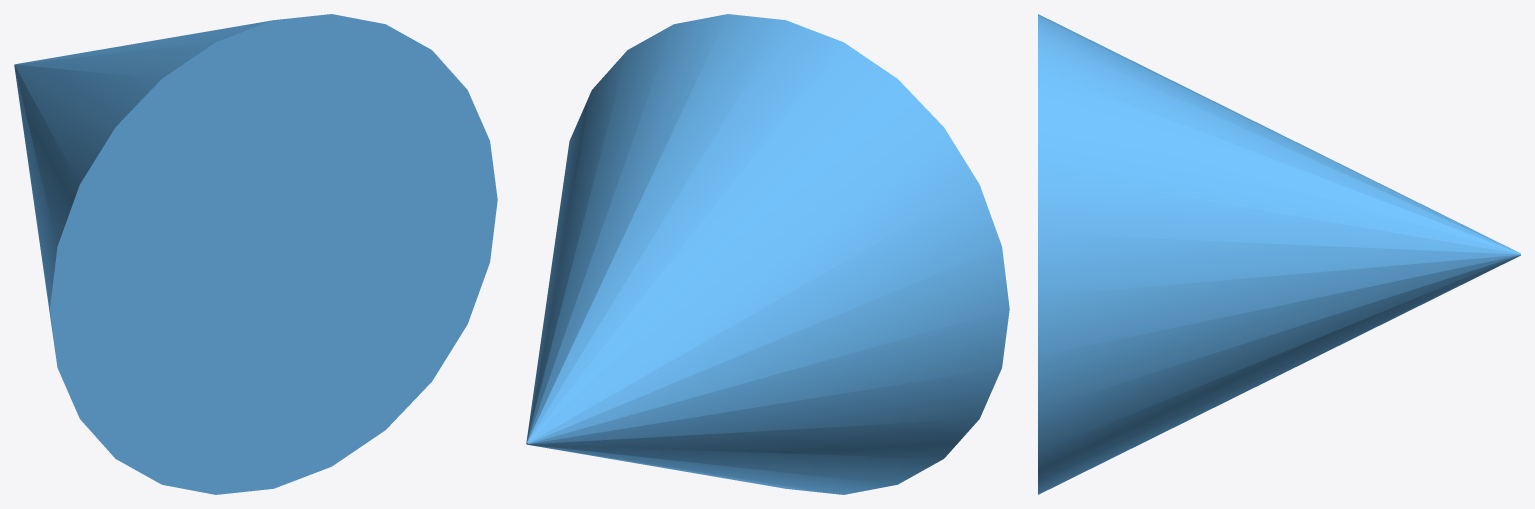
Rendered from vec_046.dae.
3 renders of one model, left to right at view 1: azimuth 30°, elevation 25°; view 2: azimuth 150°, elevation 25°; view 3: azimuth 270°, elevation 25°, orthographic. The views are drawn at different scales.
Visible parts, largest first — view 1: Model; view 2: Model; view 3: Model.
Boxes of the visible parts, <box> form: Model: <box>14,14,497,494</box>; Model: <box>526,14,1009,494</box>; Model: <box>1038,14,1520,494</box>.
Size of the model in its own units: 1 by 1 by 1.
